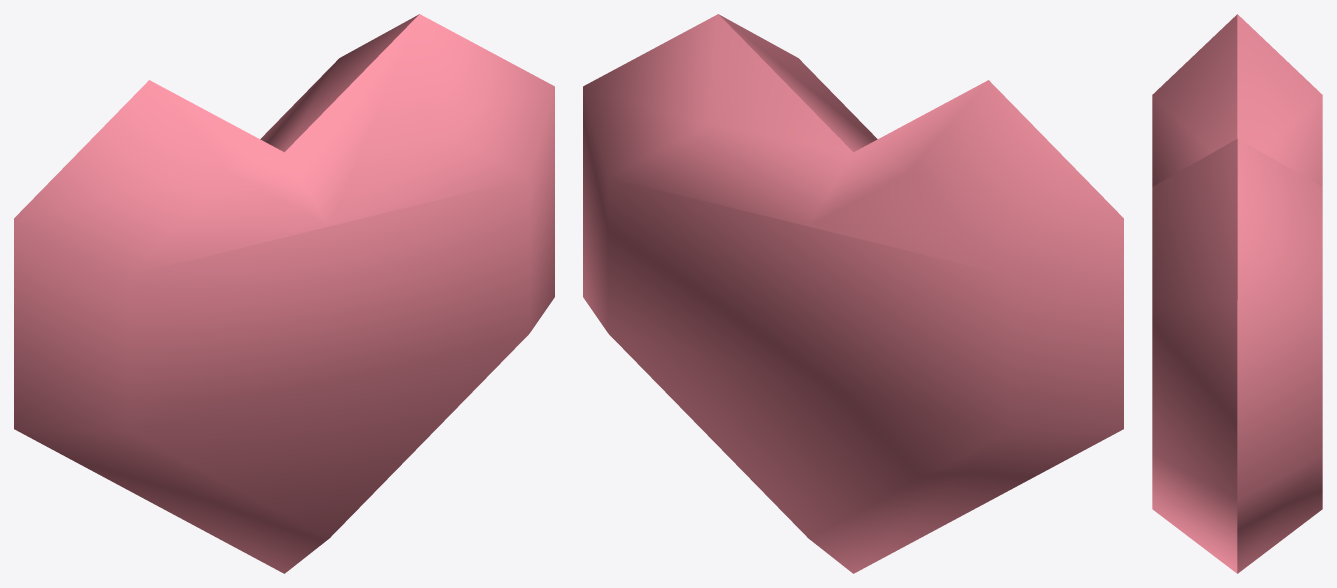
Rendered from heart.glb.
3 renders of one model, left to right at view 1: azimuth 30°, elevation 25°; view 2: azimuth 150°, elevation 25°; view 3: azimuth 270°, elevation 25°, orthographic. The views are drawn at different scales.
Visible parts, largest first — view 1: heart; view 2: heart; view 3: heart.
Part boxes in pixels (x1,y1,x2,y2): heart: (14, 14, 554, 573); heart: (583, 14, 1123, 573); heart: (1152, 14, 1322, 573).
Size of the model in its own units: 0.4122 by 0.3839 by 0.119.
